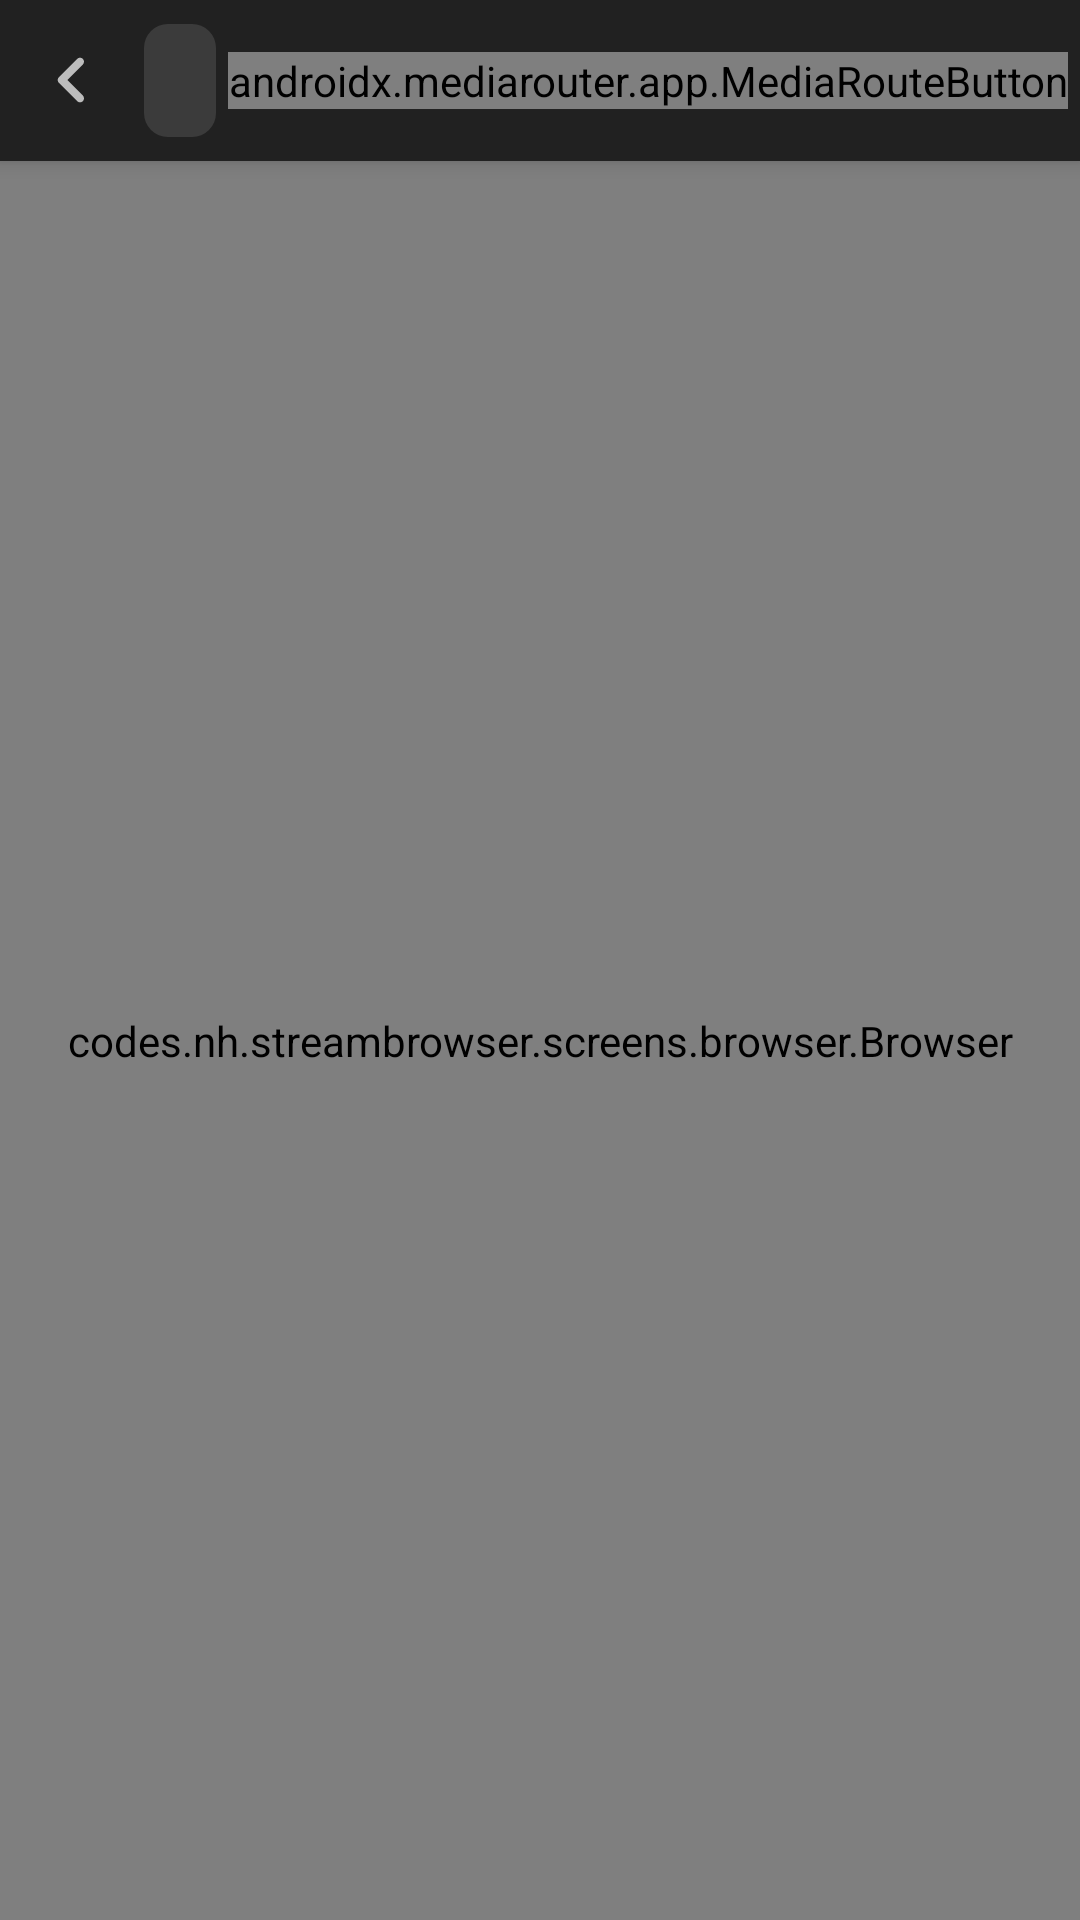

Where icons sit on this 1080 × 1920 app screen, as (x1, y1, x2, y2):
Back: (57, 57, 84, 103)
